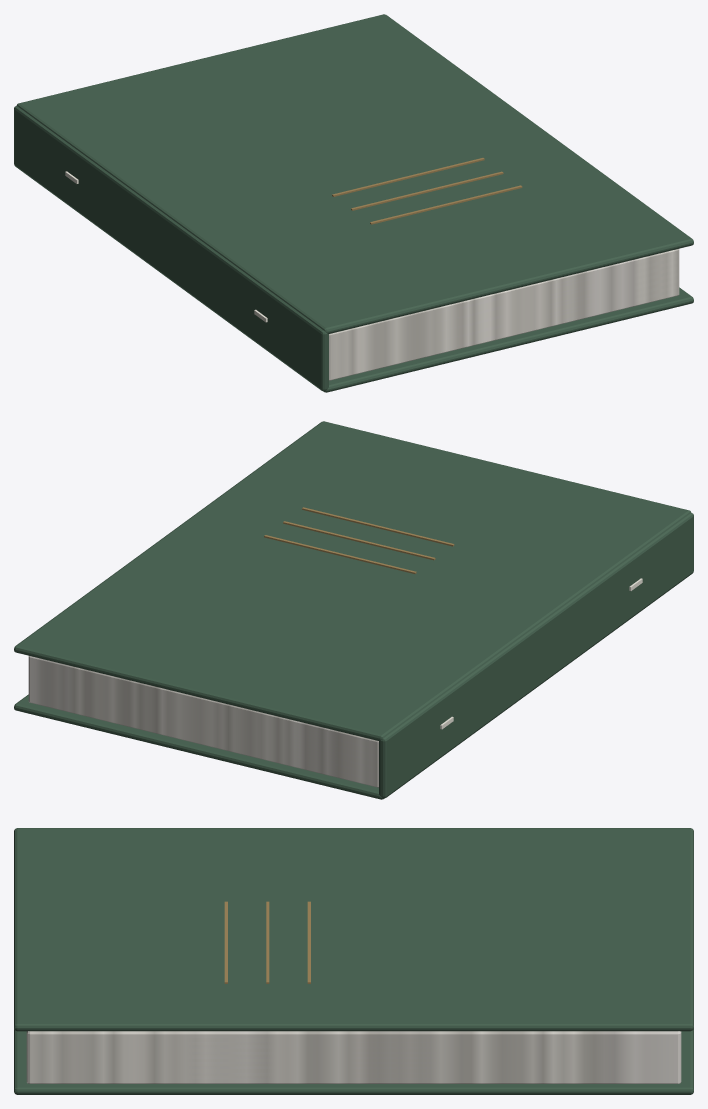
The model's file is notebook.glb.
3 renders of one model, top to bottom at view 1: azimuth 30°, elevation 25°; view 2: azimuth 150°, elevation 25°; view 3: azimuth 270°, elevation 25°, orthographic. The views are drawn at different scales.
Visible parts, largest first — view 1: Cloth-bound cover.001, Bound cloth spine, Sewn notebook page block, Cloth-bound cover; view 2: Cloth-bound cover.001, Bound cloth spine, Sewn notebook page block, Cloth-bound cover; view 3: Cloth-bound cover.001, Sewn notebook page block, Cloth-bound cover.
Boxes of the visible parts, x1,y1,x2,y2 form: Cloth-bound cover.001: (16,14,693,333); Bound cloth spine: (14,106,328,391); Sewn notebook page block: (329,249,679,380); Cloth-bound cover: (323,287,693,392); Cloth-bound cover.001: (14,421,691,740); Bound cloth spine: (379,513,693,798); Sewn notebook page block: (28,656,378,787); Cloth-bound cover: (14,694,384,799); Cloth-bound cover.001: (14,828,693,1031); Sewn notebook page block: (26,1031,681,1083); Cloth-bound cover: (14,1029,693,1094).
Bounding box in the file's own units: 0.1489 × 0.025 × 0.213.
Materials: 4 (2 with a texture image).
